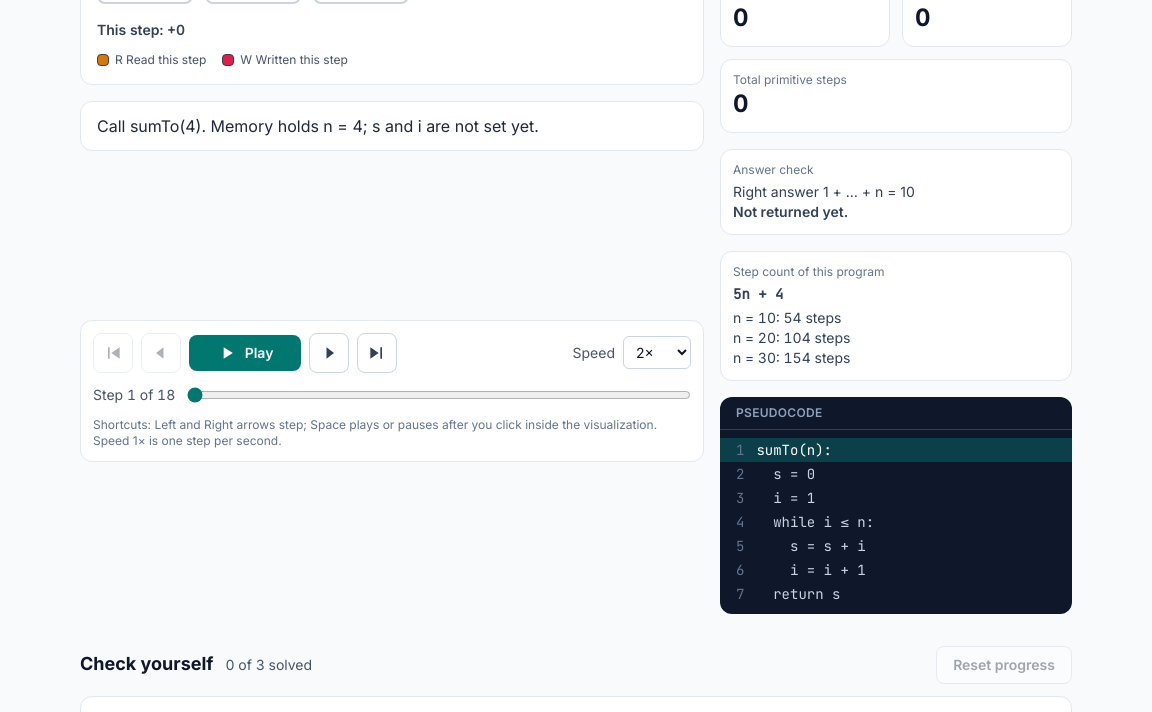
Test case: RAM model lesson › starts the loop on n = 4 and ends after 5n + 4 = 24 steps
(page scrolled)
What coordinates should you click on to do the following:
click the button named "Last step"
I would click on:
 (377, 352)
Its box is [357,332,397,372].
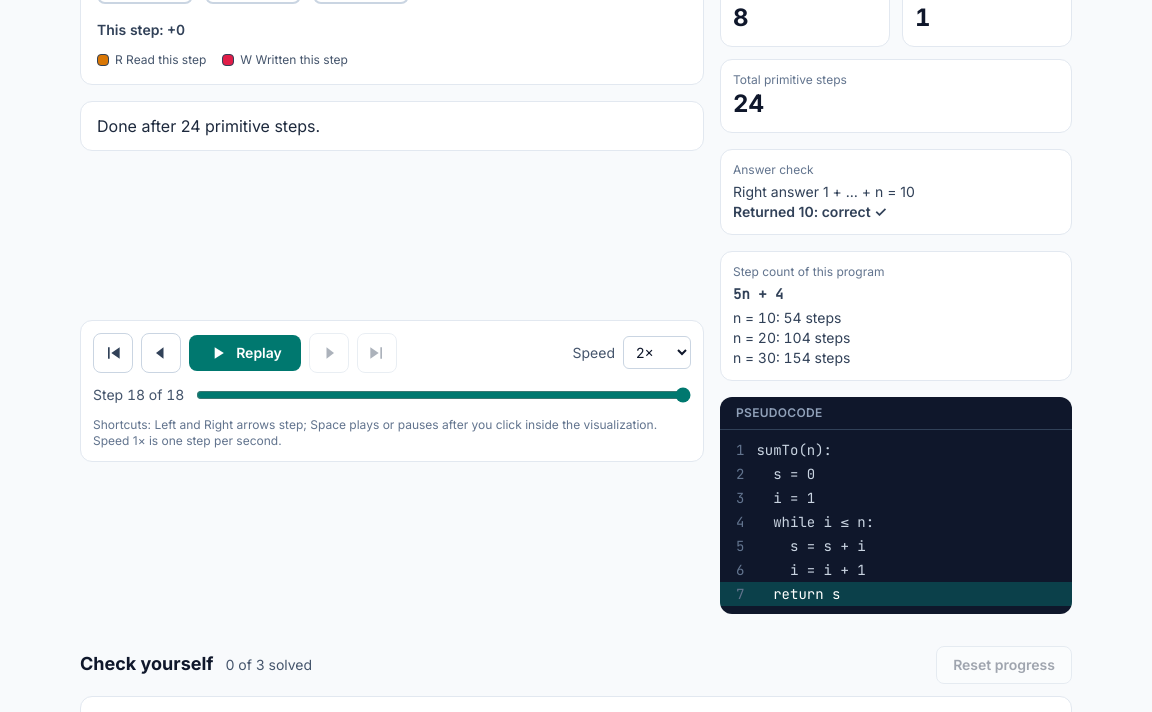
Expected: the text "Done after 24 primitive steps." is shown, [80,101,704,151]
Expected: the text "Returned 10: correct ✓" is shown, [733,203,887,220]
